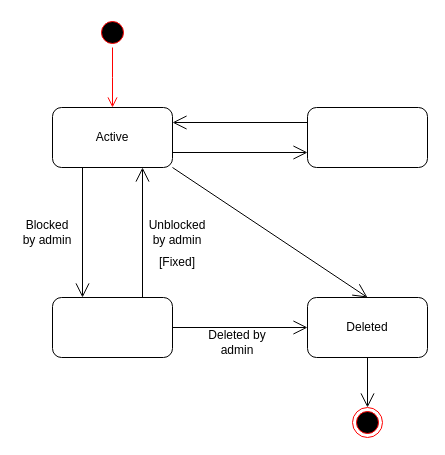
This 445x455 diagram has some shape labels left out. The shapes that lost their labels are listed below. From the top down, each one's centre as x and y in pixels, then its label:
At point (367, 137): "Archived".
At point (112, 327): "Blocked".
